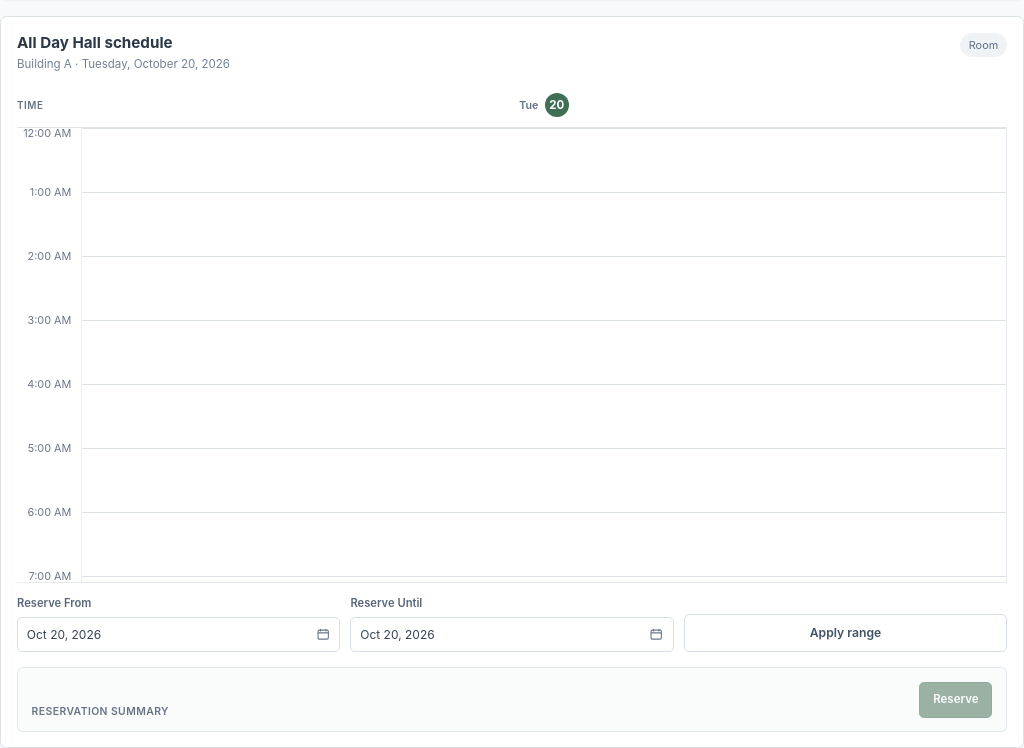
Scenario: ResourcesPage reservation form › validates every day in a full-day date range against saved weekdays
The image size is (1024, 748).
(page scrolled)
Click the button with aria-label "Reserve From".
click(64, 635)  # box [17,617,340,652]
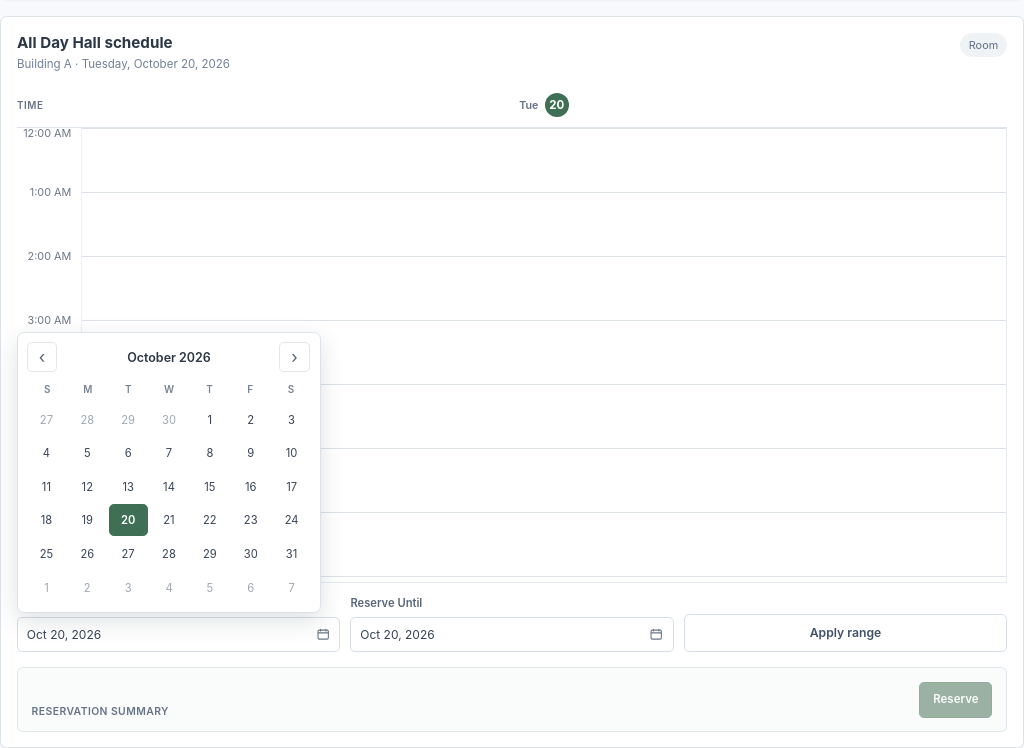
Click the button "23".
click(251, 520)  # box [231,504,270,536]
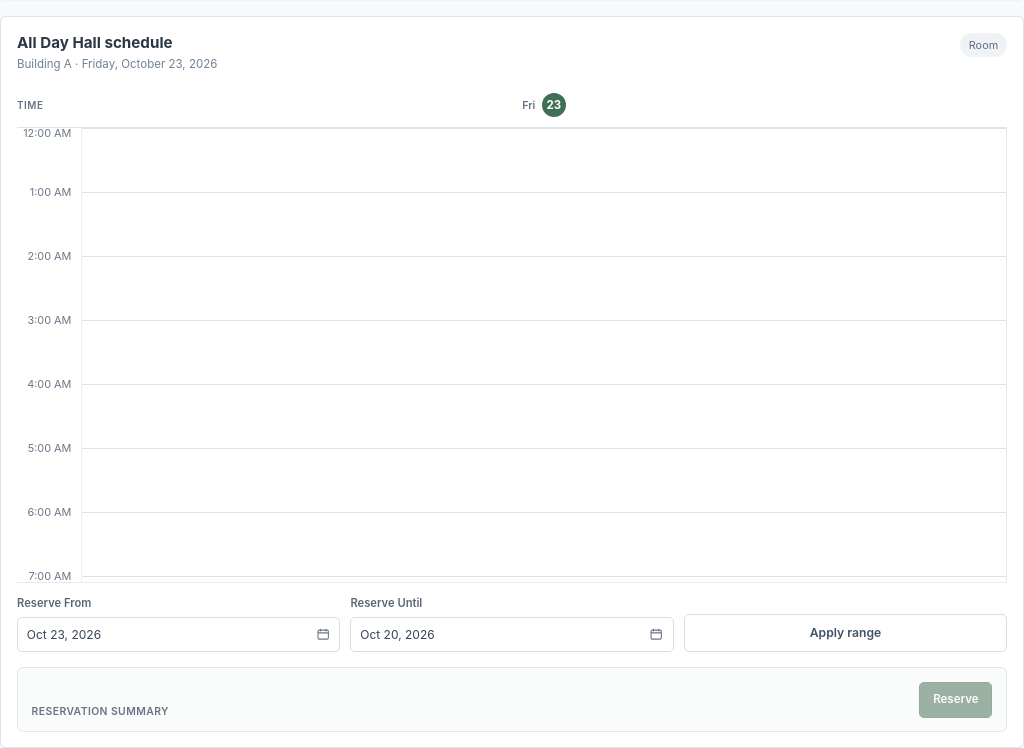
Click the button with aria-label "Reserve Until".
click(397, 635)  # box [350,617,674,652]
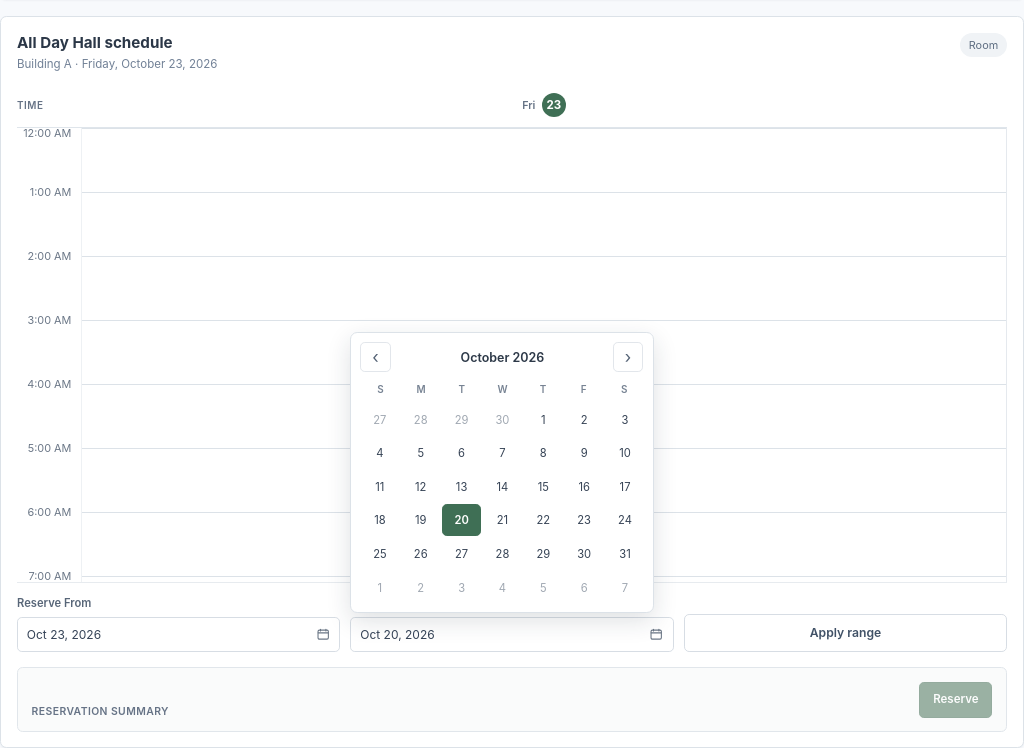
Click the button "25".
click(380, 554)  # box [360,538,400,570]
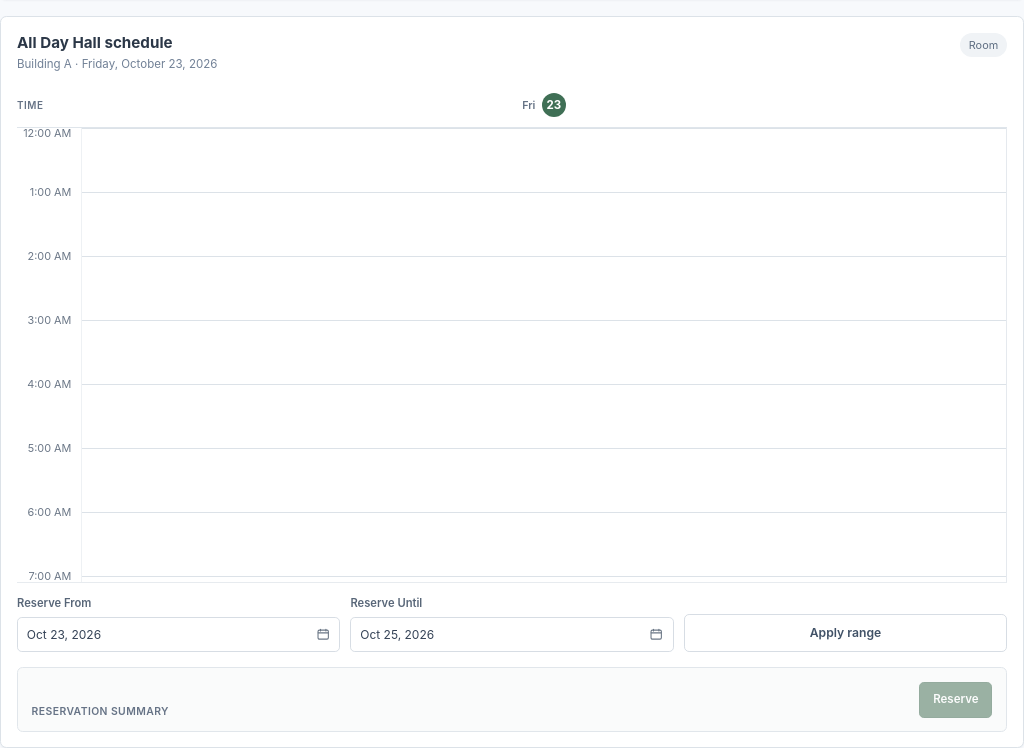
Click the button "Apply range".
click(845, 633)  # box [684,614,1007,652]
(page scrolled)
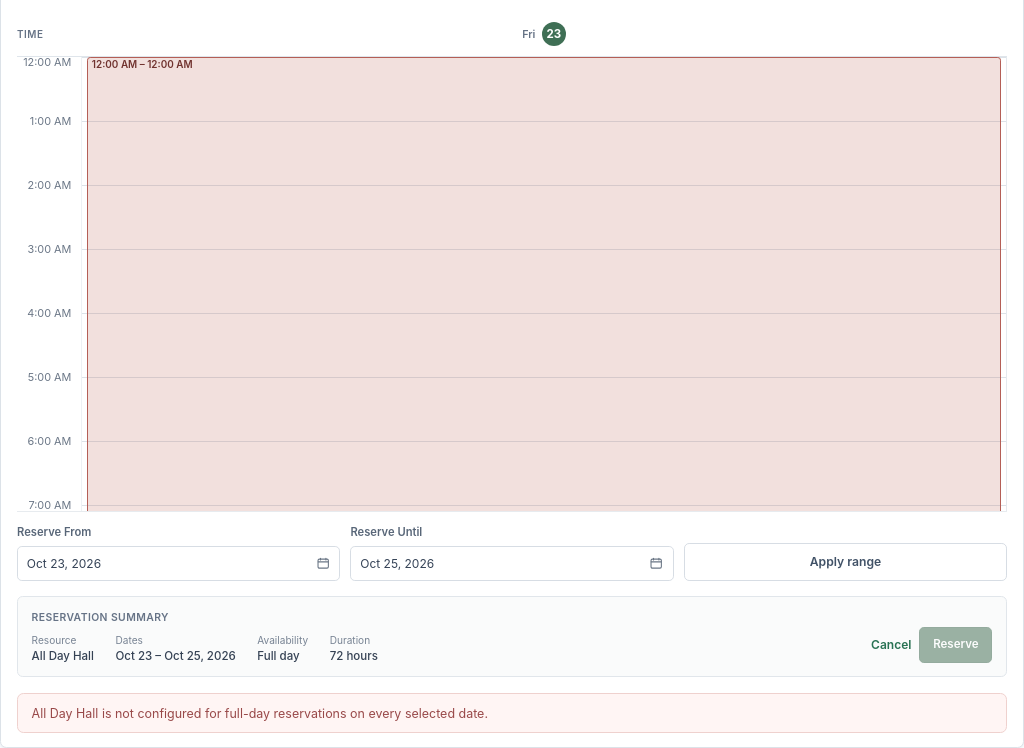
Check: the text "not configured for full-day reservations on every selected date" is shown, box [32,706,488,721]
